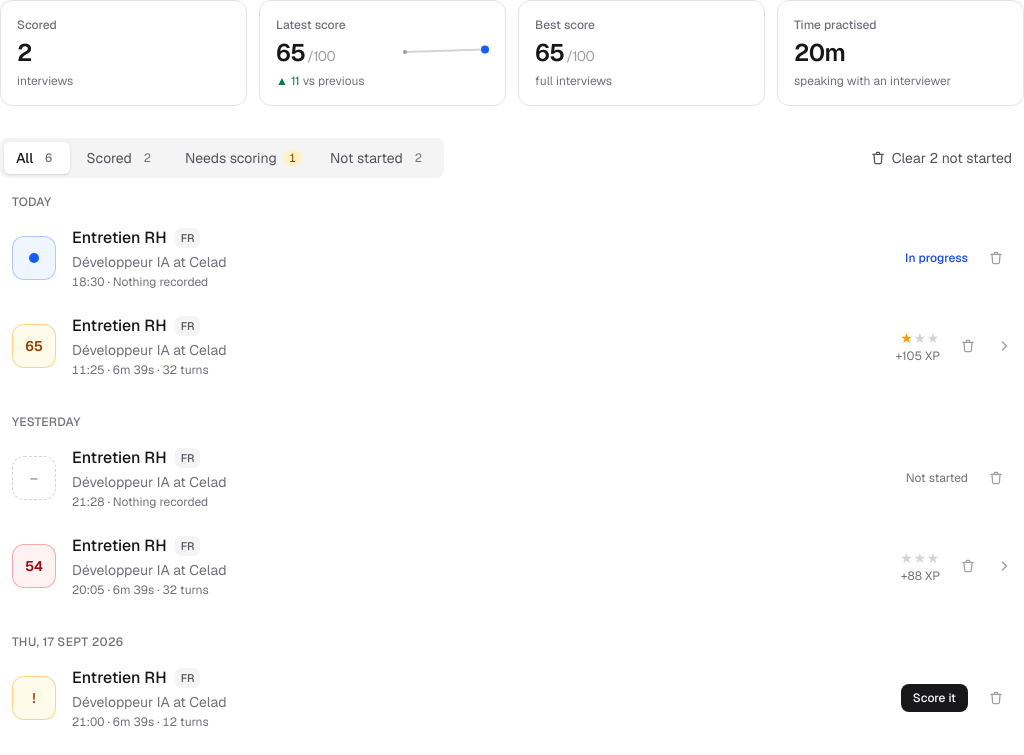
Test case: InterviewHistoryList › asks before deleting, then removes the row and refreshes
This screenshot has width=1024, height=755.
What coordinates should you click on to do the following:
click the button named "Delete interview"
I would click on:
 (968, 346)
Its box is [952,330,984,362].
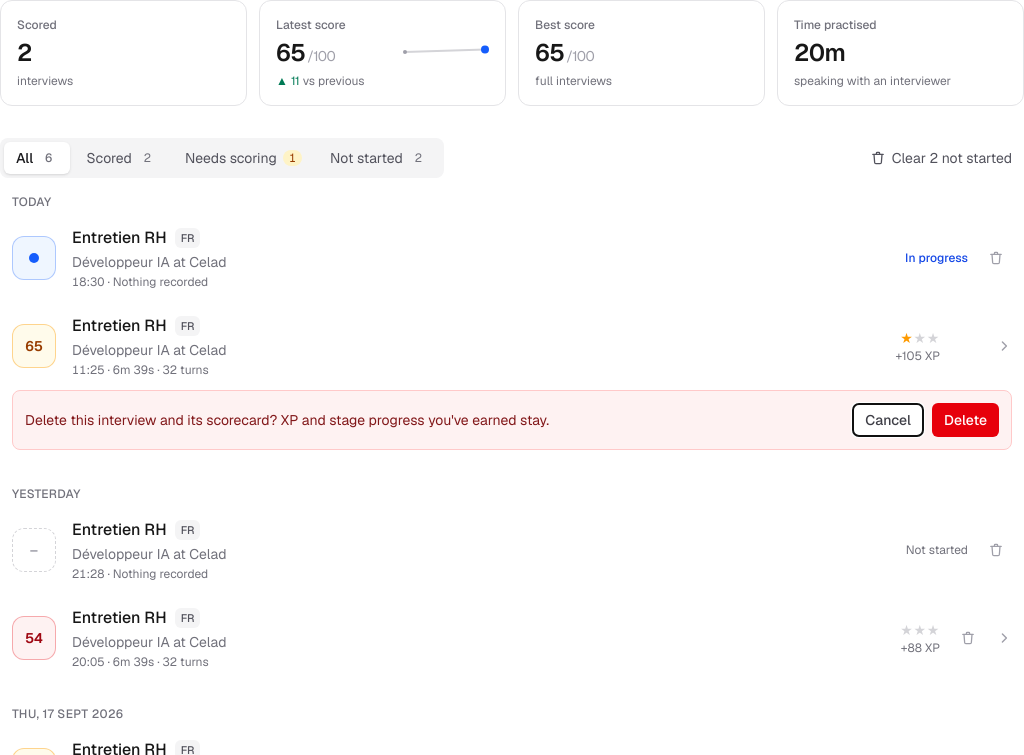
expect the dialog shows "XP and stage progress you've earned stay": met, box [25,411,549,429]
What coordinates should you click on to do the following:
click the button "Delete"
I would click on:
 (965, 420)
Its box is [932,403,999,437].
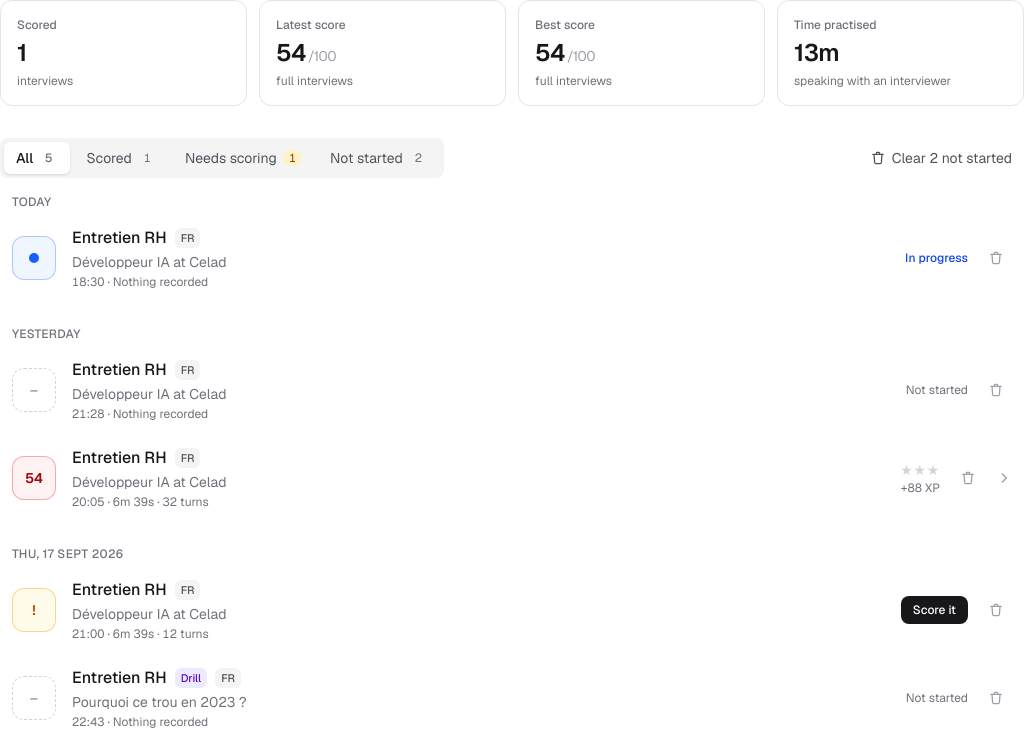
expect the number of list items is 5: met, box [0,214,1023,302]; [0,346,1023,434]; [0,434,1023,522]; [0,566,1023,654]; [0,654,1023,742]
